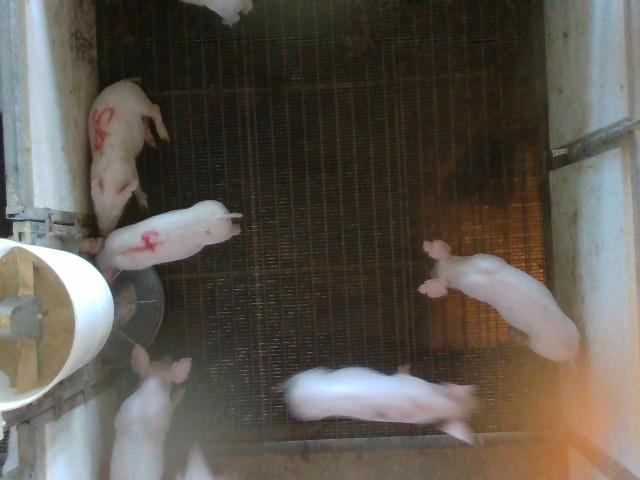pig-4: (80, 200, 241, 282)
pig-5: (88, 78, 170, 236)
